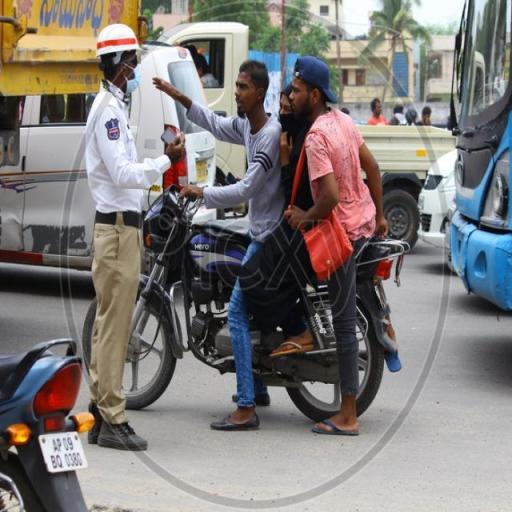tripple riding: (148, 49, 438, 461)
